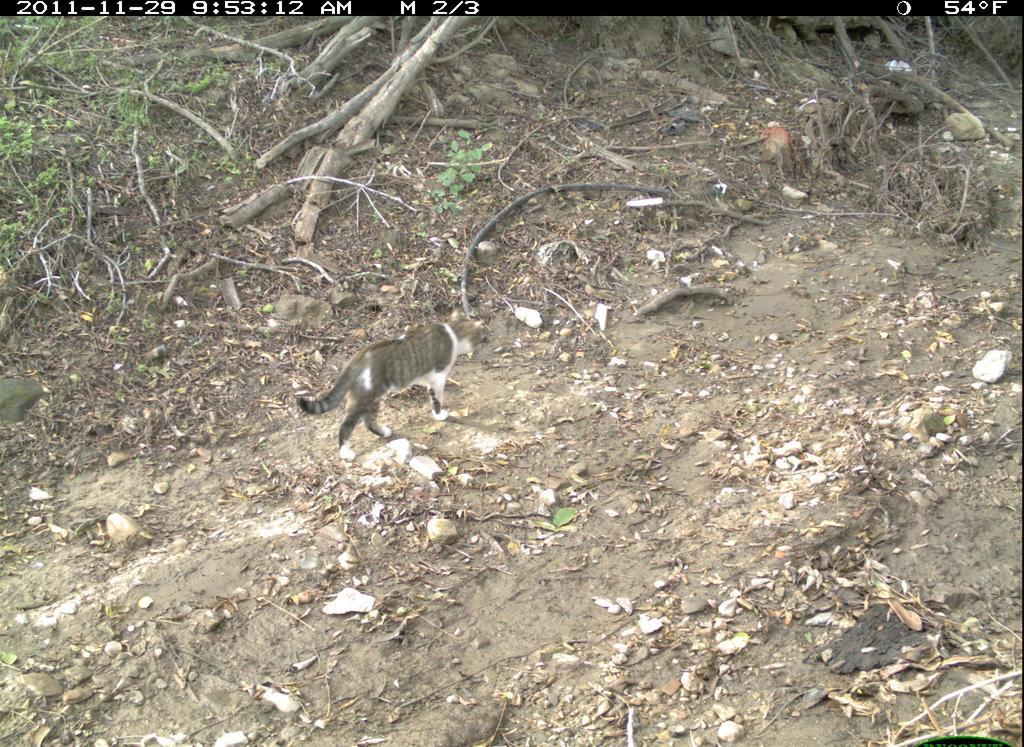cat: (287, 296, 500, 469)
